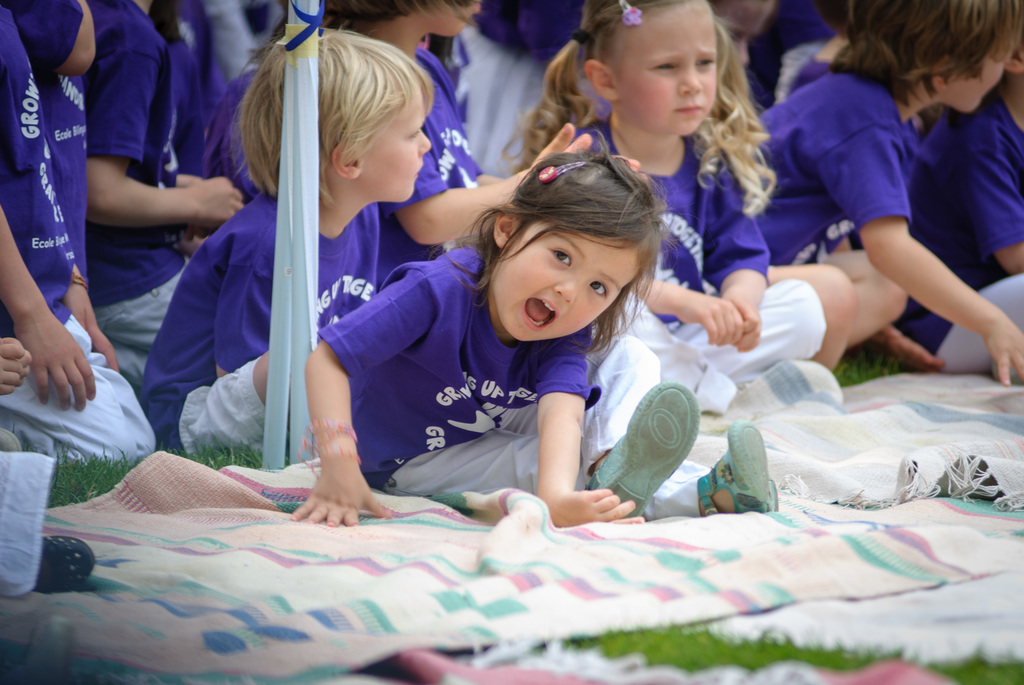Human_hand: (15, 297, 90, 419), (527, 122, 648, 181), (289, 468, 391, 528), (63, 287, 121, 370), (536, 489, 643, 524), (676, 291, 744, 345), (869, 324, 943, 372), (187, 176, 244, 227), (984, 315, 1023, 387), (182, 173, 218, 240), (722, 296, 762, 352), (1, 335, 33, 386), (0, 343, 25, 396)
